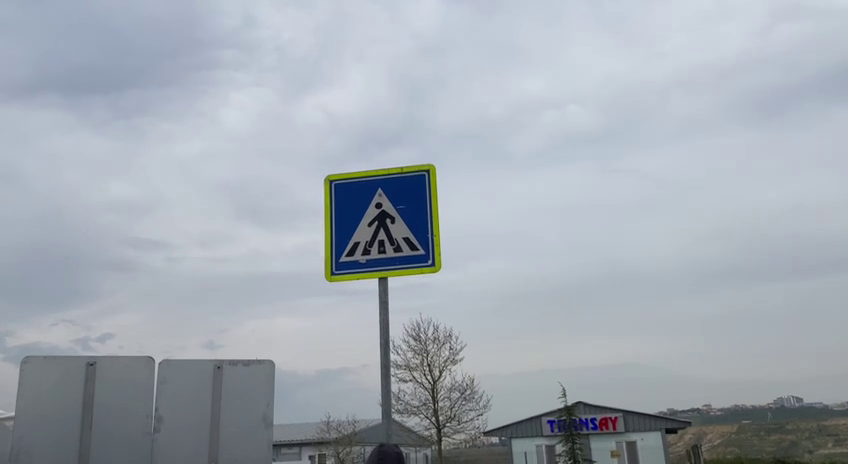pedestrianCrossing: (321, 162, 445, 284)
